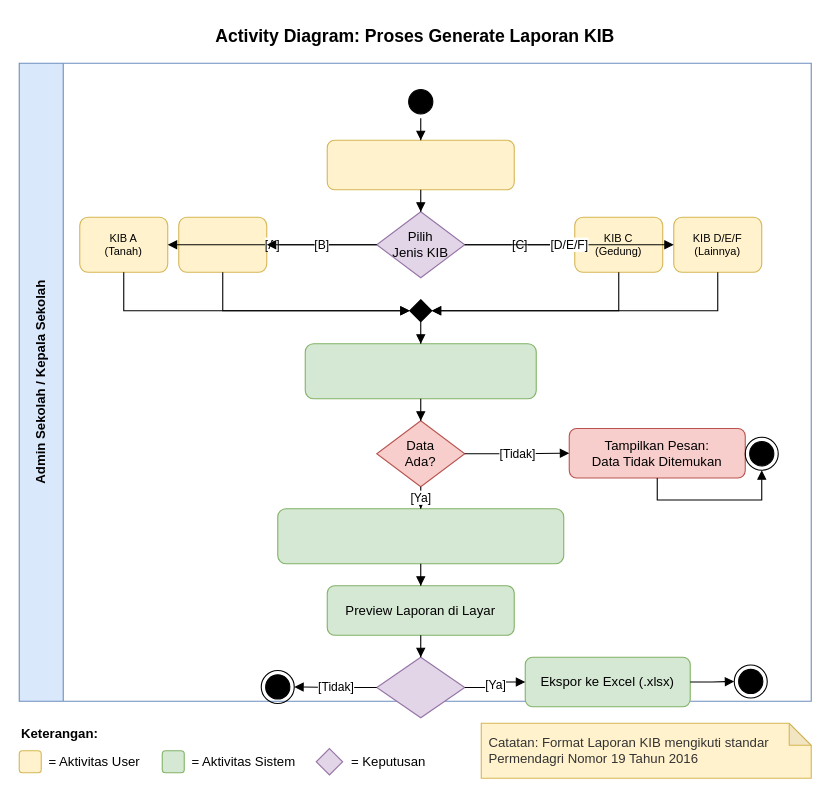
Image size: 831x798. Some labels were removed from this diagram. The shapes that lost their labels are listed below. From the top down, each one's centre as x and y in pixels, then its label:
At point 420,164: "Buka Menu Laporan KIB".
At point 222,244: "KIB B (Peralatan)".
At point 420,371: "Query Database (Ambil data aset sesuai golongan)".
At point 420,536: "Generate Template Laporan (Format sesuai Permendagri 19/2016)".
At point 420,687: "Ekspor?".
